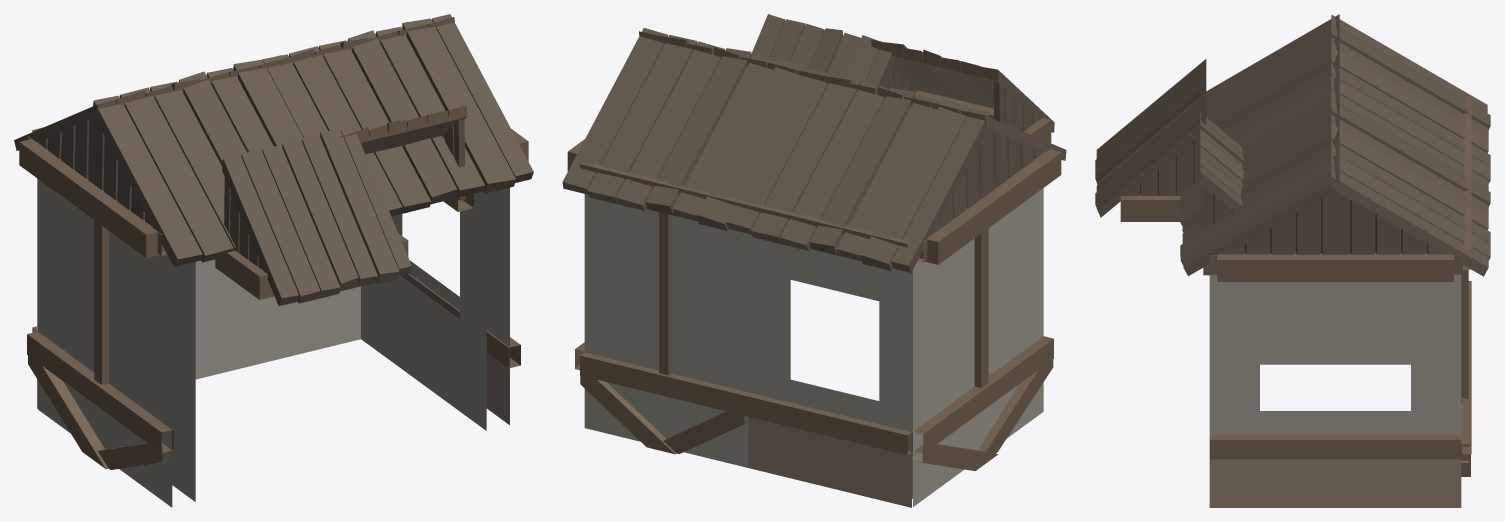
The model's file is market.glb.
3 views of the same model, side by side, from view 1: azimuth 30°, elevation 25°; view 2: azimuth 150°, elevation 25°; view 3: azimuth 270°, elevation 25° (orthographic). The views are drawn at different scales.
Visible parts, largest first — view 1: authored:building-shell-market:plaster:2, MoyoSilhouetteRoof:4, MoyoSilhouetteRoof:6, MoyoSilhouetteCanopy:8, authored:building-shell-market:window:3, authored:building-shell-market:plaster:1, MoyoSilhouetteRoof:5, MoyoSilhouetteCanopy:9, authored:building-shell-market:window:0, MoyoSilhouetteRoof:7; view 2: authored:building-shell-market:plaster:1, MoyoSilhouetteRoof:5, authored:building-shell-market:window:0, authored:building-shell-market:plaster:2, MoyoSilhouetteRoof:7, MoyoSilhouetteCanopy:8, MoyoSilhouetteRoof:4, MoyoSilhouetteCanopy:9, MoyoSilhouetteRoof:6; view 3: authored:building-shell-market:window:3, MoyoSilhouetteRoof:7, MoyoSilhouetteRoof:6, MoyoSilhouetteRoof:5, MoyoSilhouetteCanopy:8, MoyoSilhouetteRoof:4, authored:building-shell-market:plaster:2, MoyoSilhouetteCanopy:9, authored:building-shell-market:plaster:1, authored:building-shell-market:window:0.
Boxes of the visible parts, box(x1,y1,x2,y2) form: authored:building-shell-market:plaster:2: box(27, 136, 195, 507); MoyoSilhouetteRoof:4: box(82, 55, 321, 266); MoyoSilhouetteRoof:6: box(262, 14, 533, 216); MoyoSilhouetteCanopy:8: box(215, 126, 411, 306); authored:building-shell-market:window:3: box(361, 187, 520, 430); authored:building-shell-market:plaster:1: box(215, 268, 360, 374); MoyoSilhouetteRoof:5: box(14, 58, 285, 211); MoyoSilhouetteCanopy:9: box(335, 105, 473, 211); authored:building-shell-market:window:0: box(32, 127, 215, 408); MoyoSilhouetteRoof:7: box(265, 17, 454, 68); authored:building-shell-market:plaster:1: box(580, 162, 748, 467); MoyoSilhouetteRoof:5: box(726, 68, 999, 272); authored:building-shell-market:window:0: box(744, 202, 912, 507); authored:building-shell-market:plaster:2: box(912, 147, 1053, 506); MoyoSilhouetteRoof:7: box(562, 28, 825, 230); MoyoSilhouetteCanopy:8: box(871, 39, 1054, 142); MoyoSilhouetteRoof:4: box(803, 71, 1066, 219); MoyoSilhouetteCanopy:9: box(751, 14, 894, 90); MoyoSilhouetteRoof:6: box(639, 31, 821, 80); authored:building-shell-market:window:3: box(1209, 255, 1461, 507); MoyoSilhouetteRoof:7: box(1331, 91, 1490, 281); MoyoSilhouetteRoof:6: box(1180, 91, 1339, 281); MoyoSilhouetteRoof:5: box(1331, 14, 1490, 190); MoyoSilhouetteCanopy:8: box(1095, 59, 1206, 221); MoyoSilhouetteRoof:4: box(1193, 14, 1339, 185); authored:building-shell-market:plaster:2: box(1260, 316, 1410, 364); MoyoSilhouetteCanopy:9: box(1200, 112, 1244, 275); authored:building-shell-market:plaster:1: box(1461, 173, 1471, 476); authored:building-shell-market:window:0: box(1463, 96, 1471, 357).
Size of the model in its own units: 4.53 by 4.09 by 4.34.
